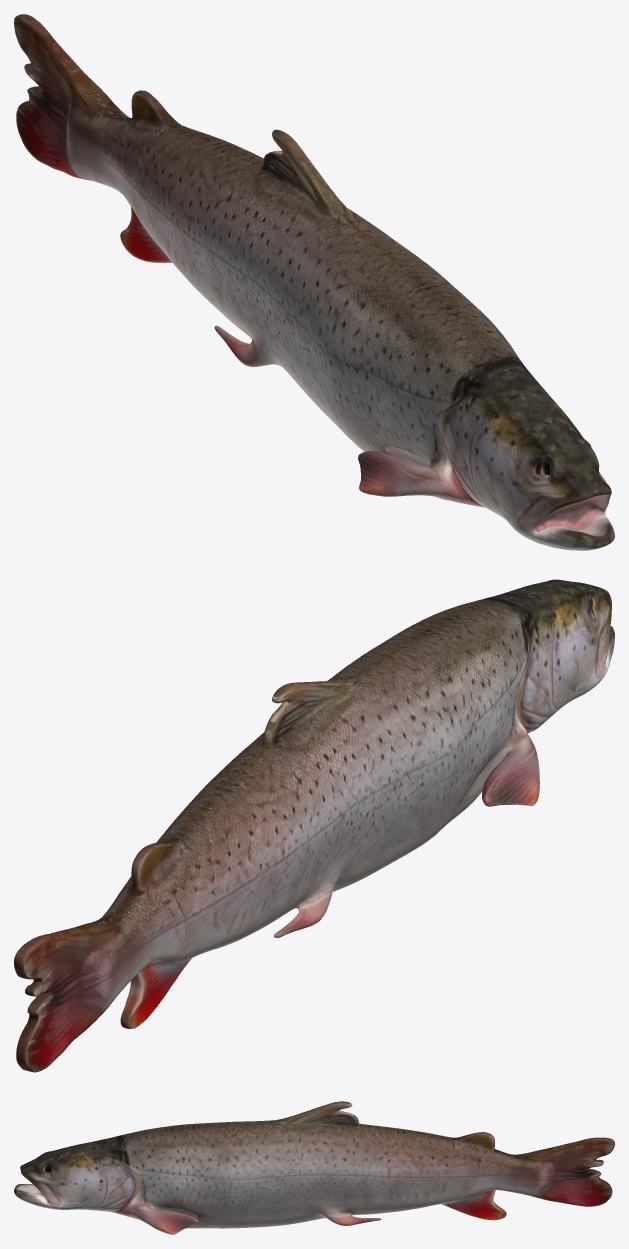
Rendered from taimen.glb.
The picture shows the model from 3 angles, top to bottom: view 1: azimuth 30°, elevation 25°; view 2: azimuth 150°, elevation 25°; view 3: azimuth 270°, elevation 25°; orthographic projection. The views are drawn at different scales.
Size of the model in its own units: 0.327 by 0.4351 by 1.9.
Materials: 1 (1 with a texture image).
